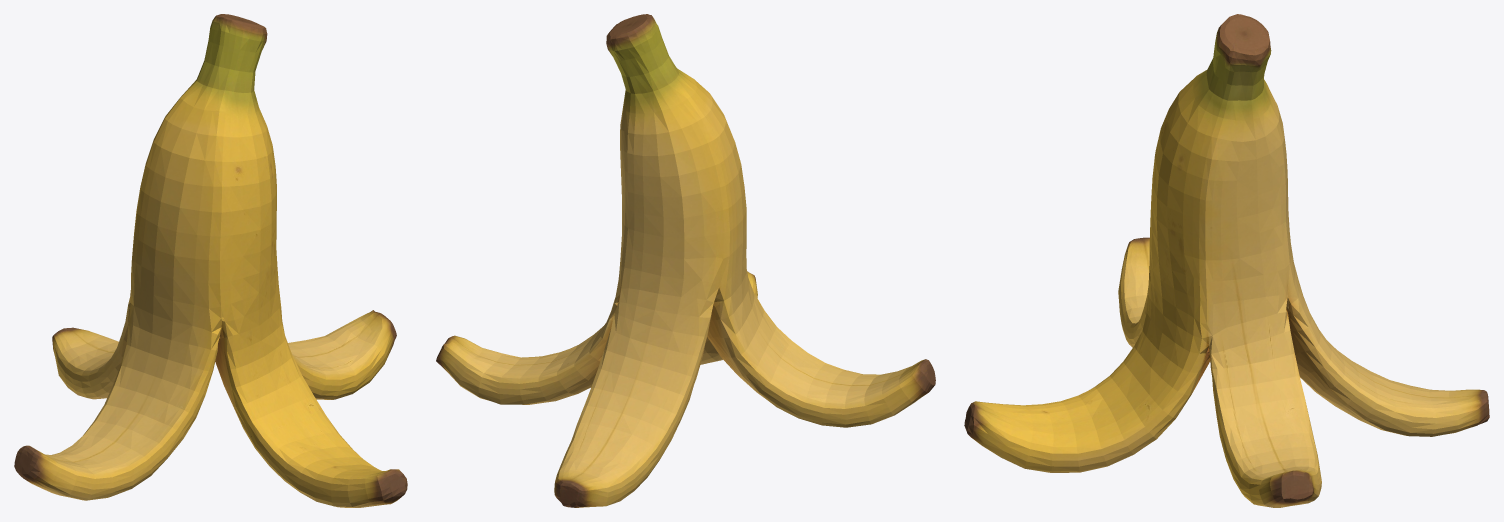
Rendered from tripo_convert_35954709-6858-47a7-bddd-f19c41c87cc8.obj.
3 renders of one model, left to right at view 1: azimuth 30°, elevation 25°; view 2: azimuth 150°, elevation 25°; view 3: azimuth 270°, elevation 25°, orthographic. The views are drawn at different scales.
Visible parts, largest first — view 1: tripo_node_35954709-6858-47a7-bddd-f19c41c87cc8; view 2: tripo_node_35954709-6858-47a7-bddd-f19c41c87cc8; view 3: tripo_node_35954709-6858-47a7-bddd-f19c41c87cc8.
Boxes of the visible parts, x1,y1,x2,y2 form: tripo_node_35954709-6858-47a7-bddd-f19c41c87cc8: [14, 14, 407, 507]; tripo_node_35954709-6858-47a7-bddd-f19c41c87cc8: [436, 14, 935, 507]; tripo_node_35954709-6858-47a7-bddd-f19c41c87cc8: [964, 14, 1489, 507].
Size of the model in its own units: 0.9709 by 0.8868 by 0.975.
Materials: 1 (1 with a texture image).
